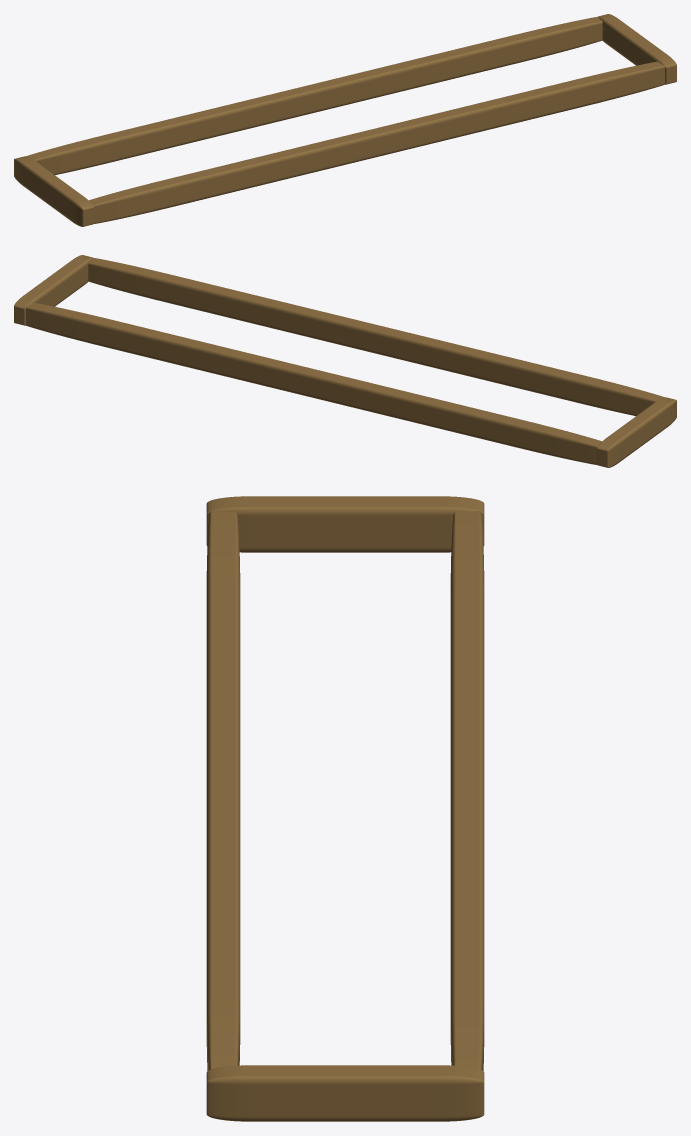
Rendered from Border.glb.
The picture shows the model from 3 angles, top to bottom: view 1: azimuth 30°, elevation 25°; view 2: azimuth 150°, elevation 25°; view 3: azimuth 270°, elevation 25°; orthographic projection. The views are drawn at different scales.
Visible parts, largest first — view 1: Mesh_Mesh_head_geo.001_lambert2SG.001; view 2: Mesh_Mesh_head_geo.001_lambert2SG.001; view 3: Mesh_Mesh_head_geo.001_lambert2SG.001.
Part boxes in pixels (x1,y1,x2,y2): Mesh_Mesh_head_geo.001_lambert2SG.001: (14,14,676,226); Mesh_Mesh_head_geo.001_lambert2SG.001: (14,255,676,467); Mesh_Mesh_head_geo.001_lambert2SG.001: (206,496,484,1121).
Size of the model in its own units: 164 by 6 by 33.
